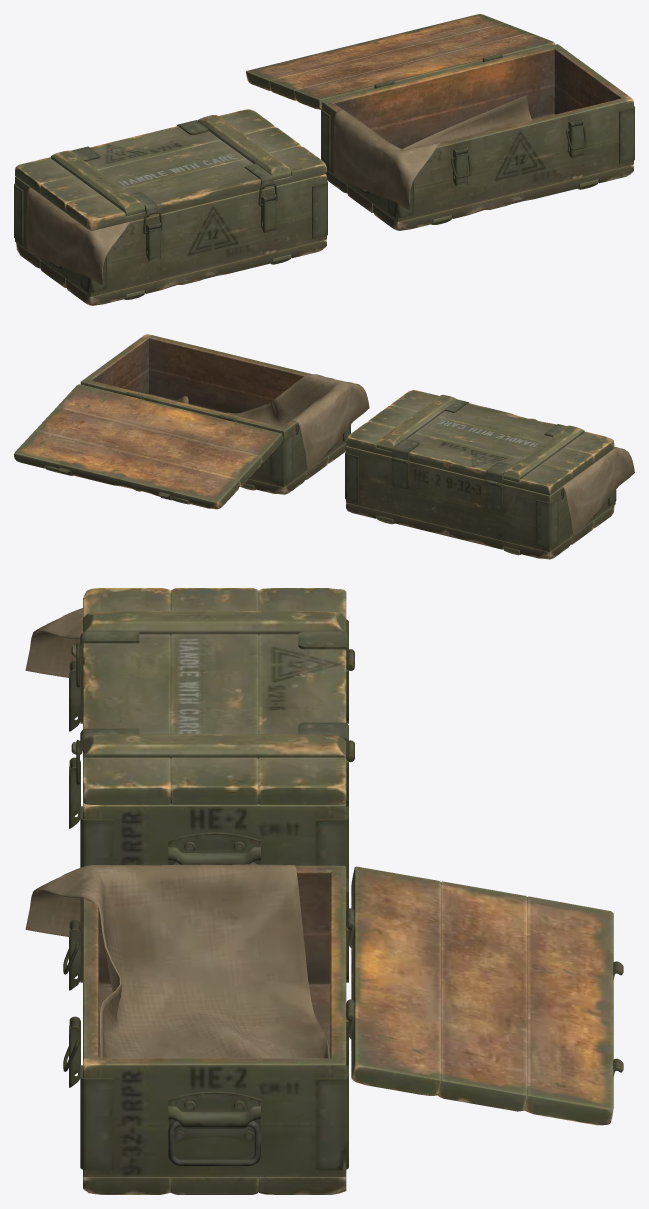
The model's file is crate-military.glb.
The picture shows the model from 3 angles, top to bottom: view 1: azimuth 30°, elevation 25°; view 2: azimuth 150°, elevation 25°; view 3: azimuth 270°, elevation 25°; orthographic projection. The views are drawn at different scales.
Parts seen in each view (by area): view 1: old_military_crate_b, old_military_crate_lid_a, old_military_crate_a, old_military_crate_lid_b, old_military_crate_cloth_b, old_military_crate_cloth_a, old_military_crate_latch_a, old_military_crate_latch_b; view 2: old_military_crate_lid_b, old_military_crate_lid_a, old_military_crate_a, old_military_crate_b, old_military_crate_cloth_b, old_military_crate_cloth_a; view 3: old_military_crate_lid_a, old_military_crate_lid_b, old_military_crate_b, old_military_crate_cloth_b, old_military_crate_a, old_military_crate_cloth_a, old_military_crate_latch_b, old_military_crate_latch_a.
Part boxes in pixels (x1,y1,x2,y2): old_military_crate_b: [321, 44, 634, 230]; old_military_crate_lid_a: [15, 109, 326, 230]; old_military_crate_a: [14, 174, 327, 305]; old_military_crate_lid_b: [246, 14, 555, 109]; old_military_crate_cloth_b: [333, 95, 532, 209]; old_military_crate_cloth_a: [26, 187, 129, 284]; old_military_crate_latch_a: [146, 194, 276, 261]; old_military_crate_latch_b: [453, 119, 583, 186]; old_military_crate_lid_b: [14, 384, 282, 509]; old_military_crate_lid_a: [346, 390, 614, 495]; old_military_crate_a: [345, 446, 616, 559]; old_military_crate_b: [80, 334, 350, 494]; old_military_crate_cloth_b: [174, 374, 369, 470]; old_military_crate_cloth_a: [562, 447, 634, 535]; old_military_crate_lid_a: [71, 588, 354, 804]; old_military_crate_lid_b: [346, 866, 623, 1125]; old_military_crate_b: [80, 865, 354, 1194]; old_military_crate_cloth_b: [25, 864, 329, 1058]; old_military_crate_a: [80, 619, 354, 879]; old_military_crate_cloth_a: [25, 608, 82, 677]; old_military_crate_latch_b: [69, 919, 80, 1087]; old_military_crate_latch_a: [69, 660, 80, 828].
Bounding box in the file's own units: 1.82 × 0.3009 × 0.9757.
Materials: 1 (1 with a texture image).
